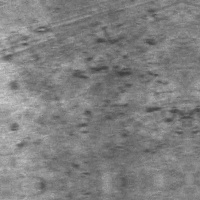rolled-in_scale: (66, 21, 187, 148), (1, 25, 56, 182)
